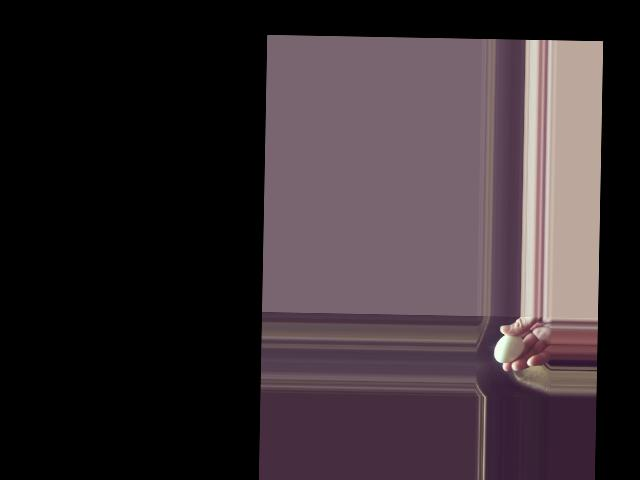egg: (494, 333, 524, 362)
